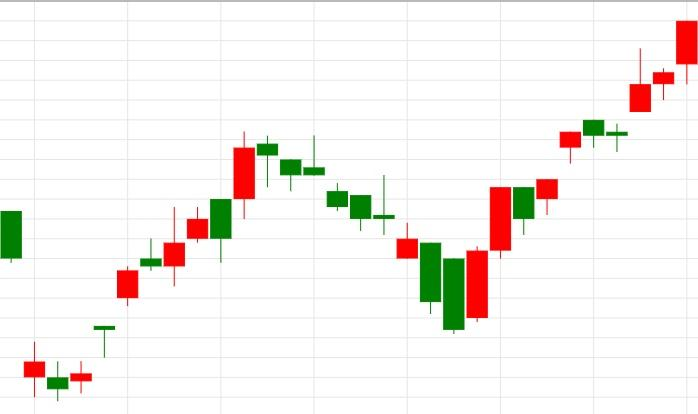bearish_engulfing_fall: (47, 199, 232, 402)
